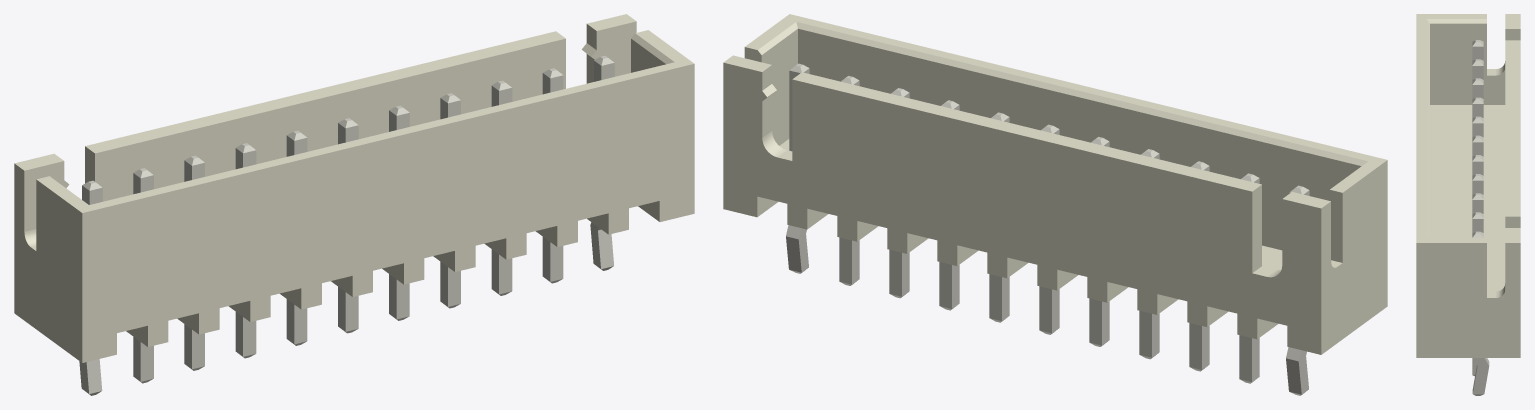
File: kc-jst_xh_b11b-xh-a_1x11_p2.50mm_vertical.glb
3 views of the same model, side by side, from view 1: azimuth 30°, elevation 25°; view 2: azimuth 150°, elevation 25°; view 3: azimuth 270°, elevation 25° (orthographic). The views are drawn at different scales.
Visible parts, largest first — view 1: 0.75_0.75_0.5833333333333334_0, 0.6666666666666666_0.6666666666666666_0.5833333333333334_0.8; view 2: 0.75_0.75_0.5833333333333334_0, 0.6666666666666666_0.6666666666666666_0.5833333333333334_0.8; view 3: 0.75_0.75_0.5833333333333334_0, 0.6666666666666666_0.6666666666666666_0.5833333333333334_0.8.
Boxes of the visible parts, x1,y1,x2,y2 form: 0.75_0.75_0.5833333333333334_0: (14,14,694,362); 0.6666666666666666_0.6666666666666666_0.5833333333333334_0.8: (79,55,614,395); 0.75_0.75_0.5833333333333334_0: (723,14,1387,354); 0.6666666666666666_0.6666666666666666_0.5833333333333334_0.8: (786,63,1309,395); 0.75_0.75_0.5833333333333334_0: (1416,14,1520,357); 0.6666666666666666_0.6666666666666666_0.5833333333333334_0.8: (1472,40,1489,395).
Size of the model in its own units: 2.99 by 1.04 by 0.5749.
